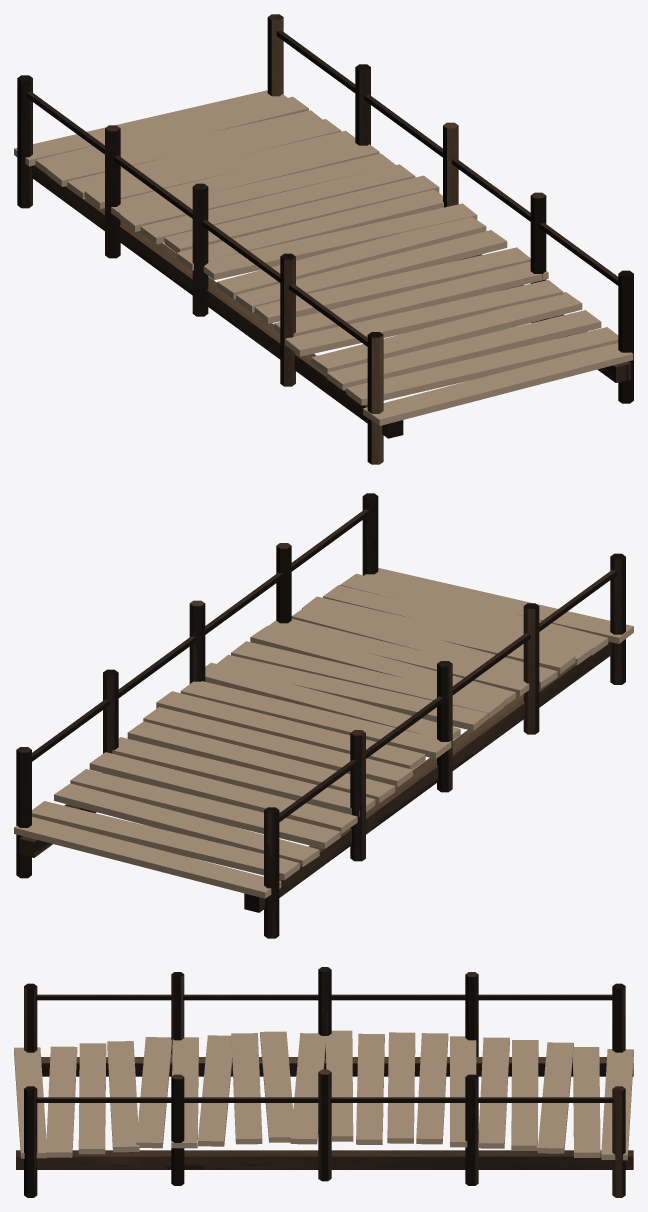
Rendered from bridge.glb.
3 views of the same model, one above another, from view 1: azimuth 30°, elevation 25°; view 2: azimuth 150°, elevation 25°; view 3: azimuth 270°, elevation 25° (orthographic). The views are drawn at different scales.
Parts seen in each view (by area): view 1: bridge_1; view 2: bridge_1; view 3: bridge_1.
Part boxes in pixels (x1=…): bridge_1: x1=14, y1=14, x2=633, y2=464; bridge_1: x1=14, y1=493, x2=633, y2=938; bridge_1: x1=14, y1=967, x2=633, y2=1197.
Size of the model in its own units: 3.5 by 1.85 by 8.43.
2 materials, 1 textured.
